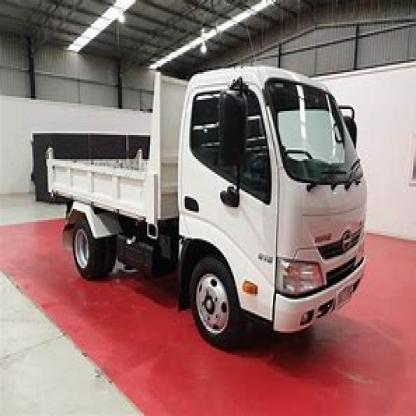dump_truck: (23, 39, 396, 349)
